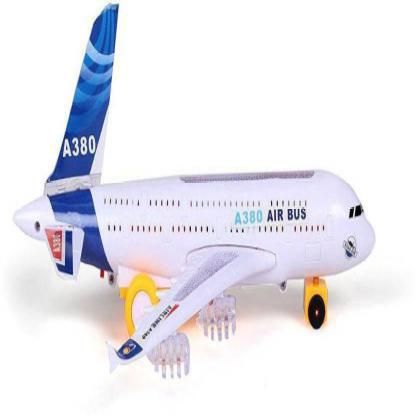CIV_Plane: (12, 3, 376, 379)
